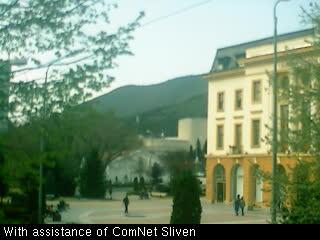person: (233, 194, 241, 216), (122, 194, 130, 215), (239, 195, 246, 217), (108, 184, 114, 201), (147, 190, 152, 200), (142, 191, 148, 199), (139, 192, 143, 201)
